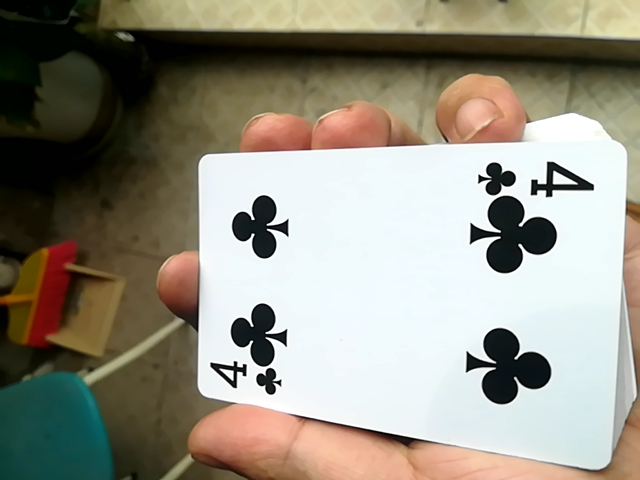mh 4: (186, 124, 631, 470)
